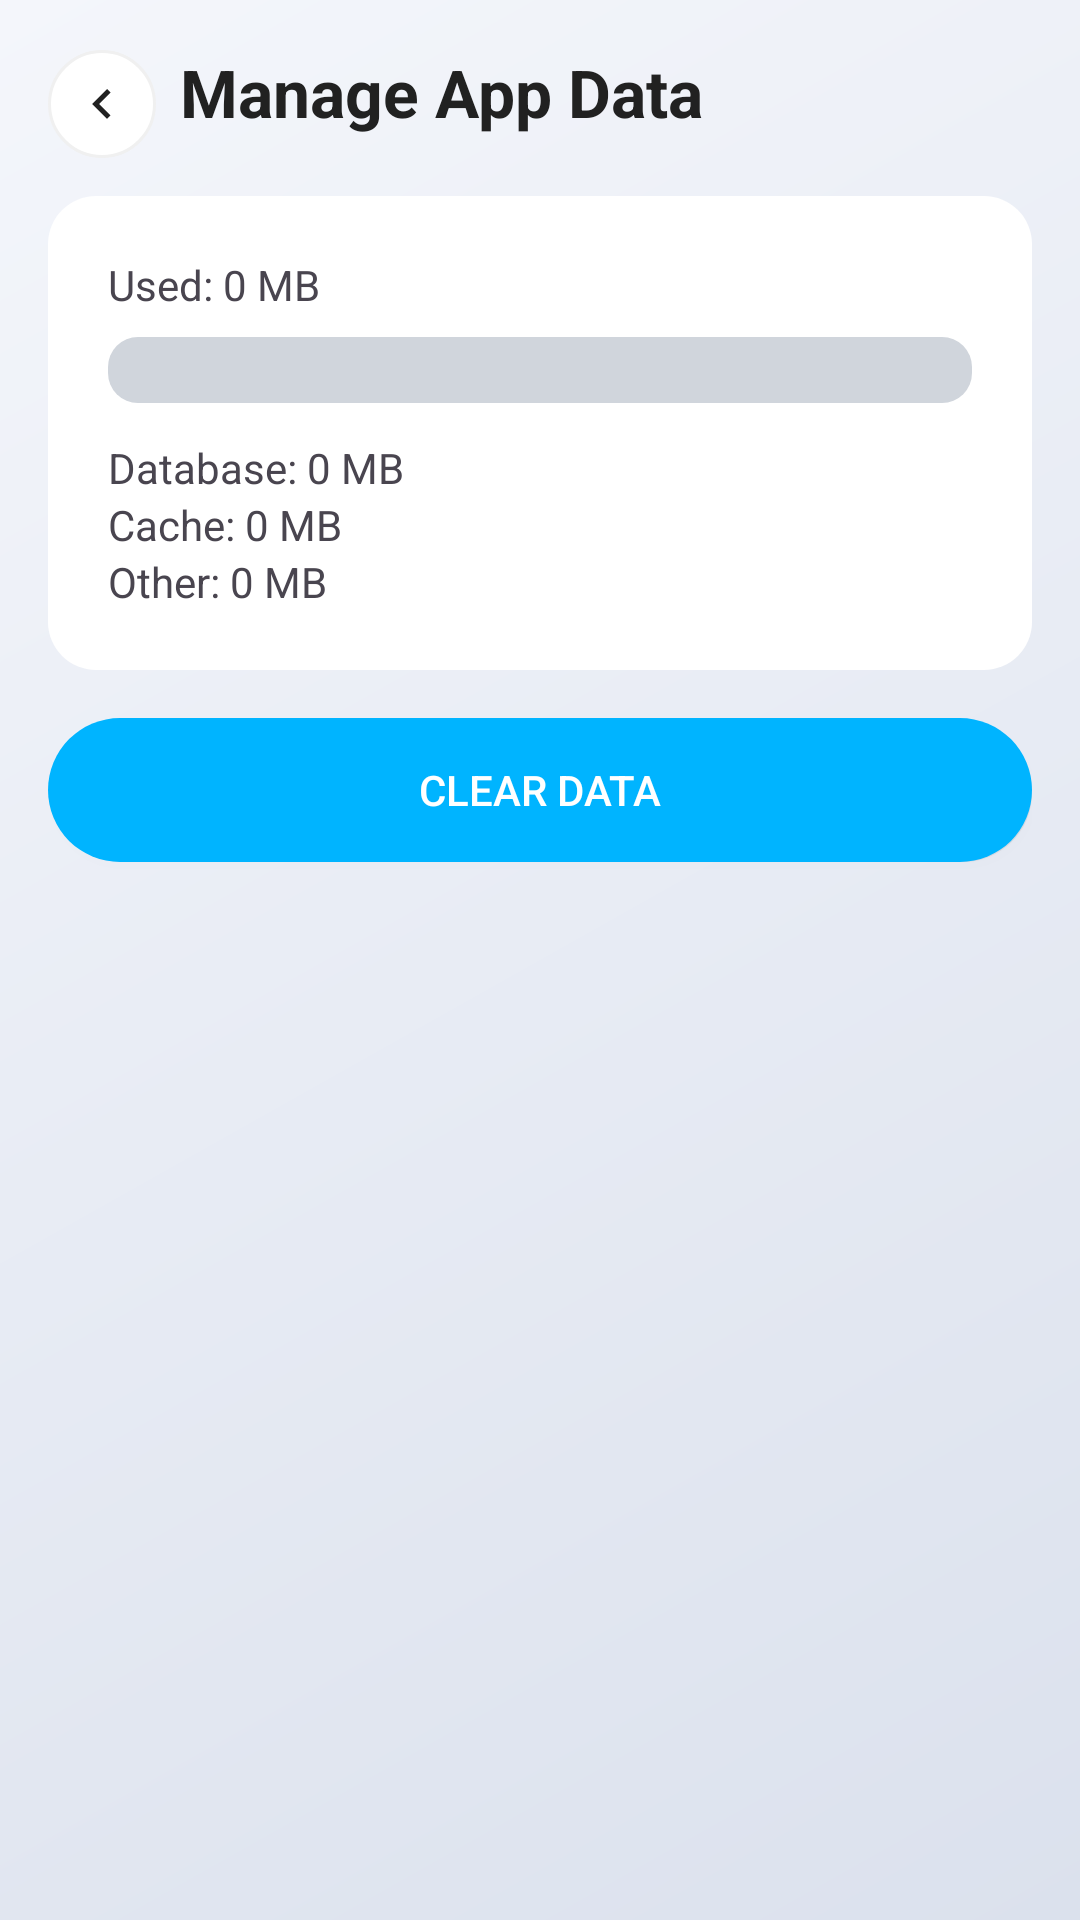

Named icons in this screenshot (1080w x 1920h) and their centers, (x=x, y=y):
chevron left: (x=102, y=104)
